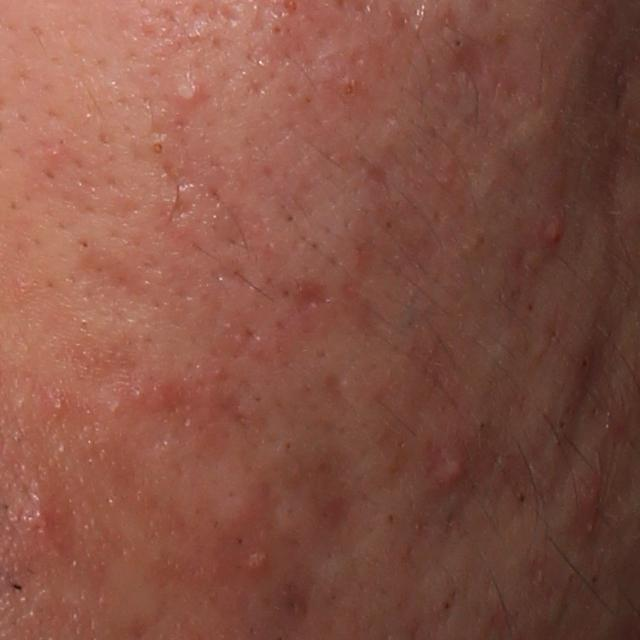atrophic_scar: (68, 245, 158, 327), (158, 172, 198, 226), (292, 276, 334, 316), (324, 372, 350, 408)
comedo: (214, 477, 268, 534), (149, 140, 167, 159), (452, 36, 467, 49)
papule: (13, 487, 63, 543), (150, 367, 198, 418), (435, 440, 475, 493), (240, 537, 282, 577), (533, 211, 566, 256), (578, 475, 605, 526)
pustule: (163, 70, 212, 110)
